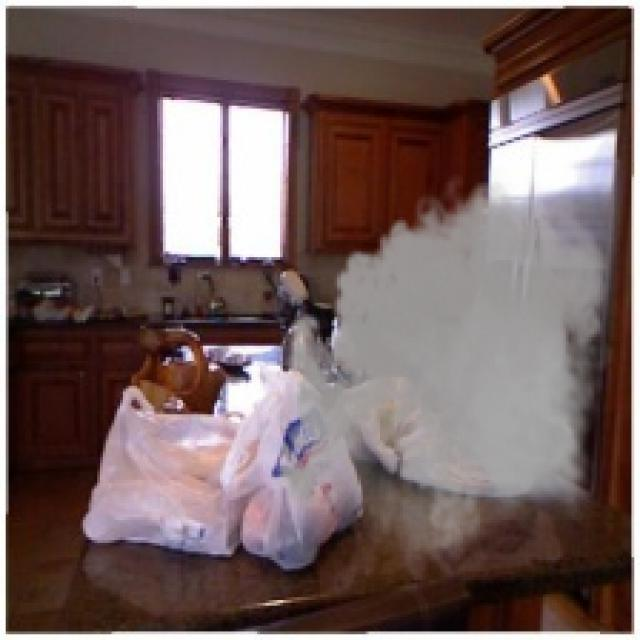Smoke: (266, 166, 620, 574)
